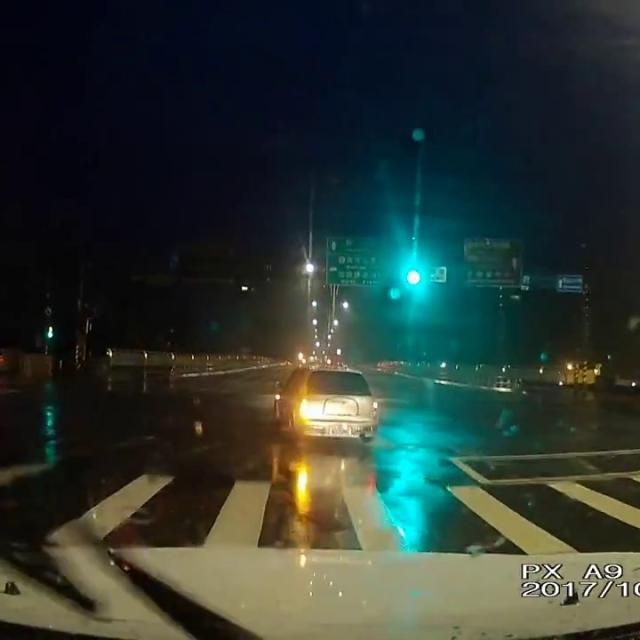Car: (271, 361, 381, 445)
